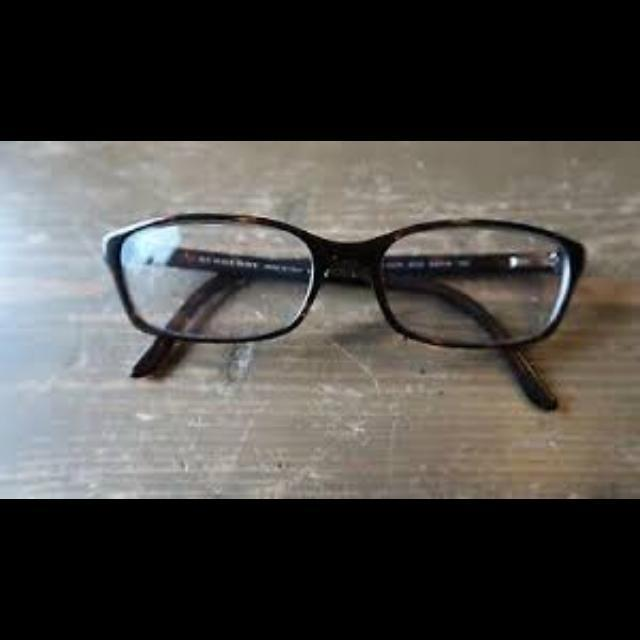mask: (101, 211, 587, 411)
